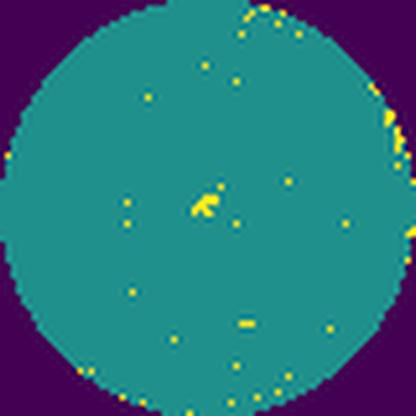Center: (190, 194, 221, 219)
